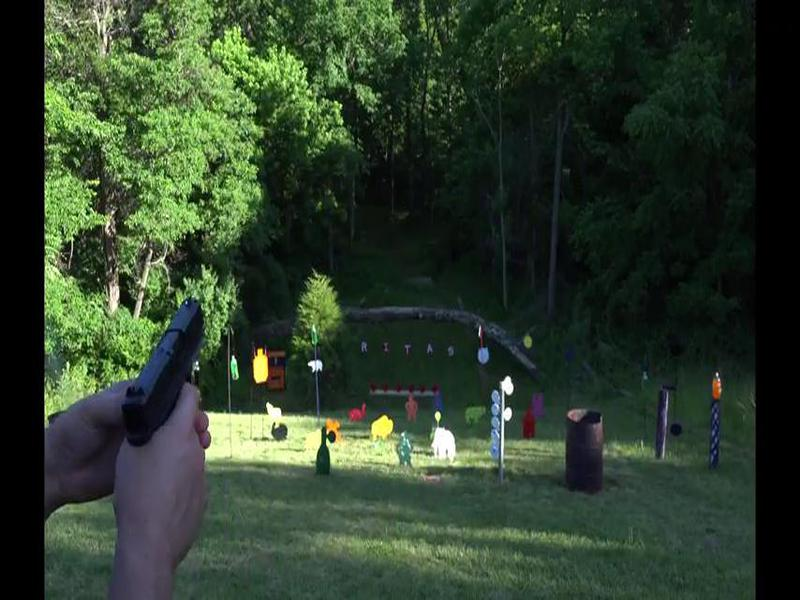Pistola: (98, 287, 241, 504)
